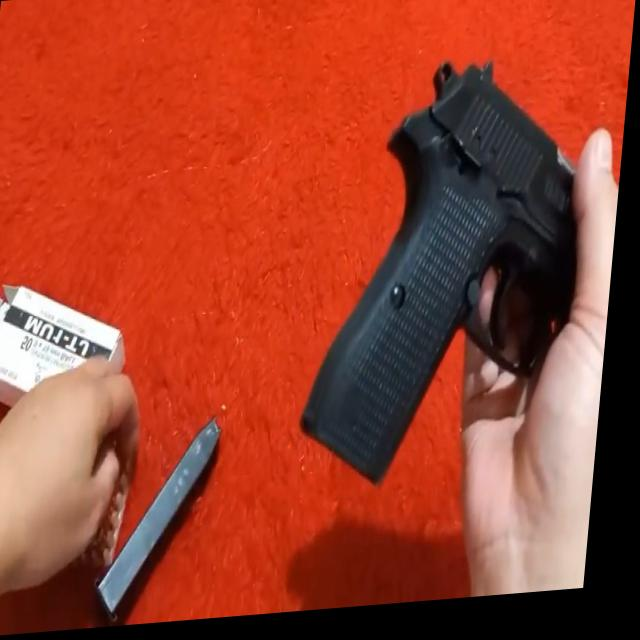handgun: (300, 26, 633, 511)
